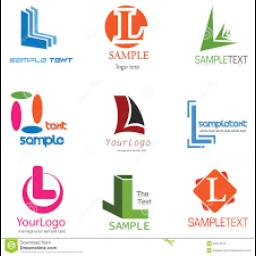l: (14, 4, 62, 52), (184, 90, 220, 150), (200, 3, 240, 55), (105, 4, 149, 48), (110, 90, 148, 140), (121, 171, 151, 221), (26, 163, 58, 201), (204, 174, 228, 206)
